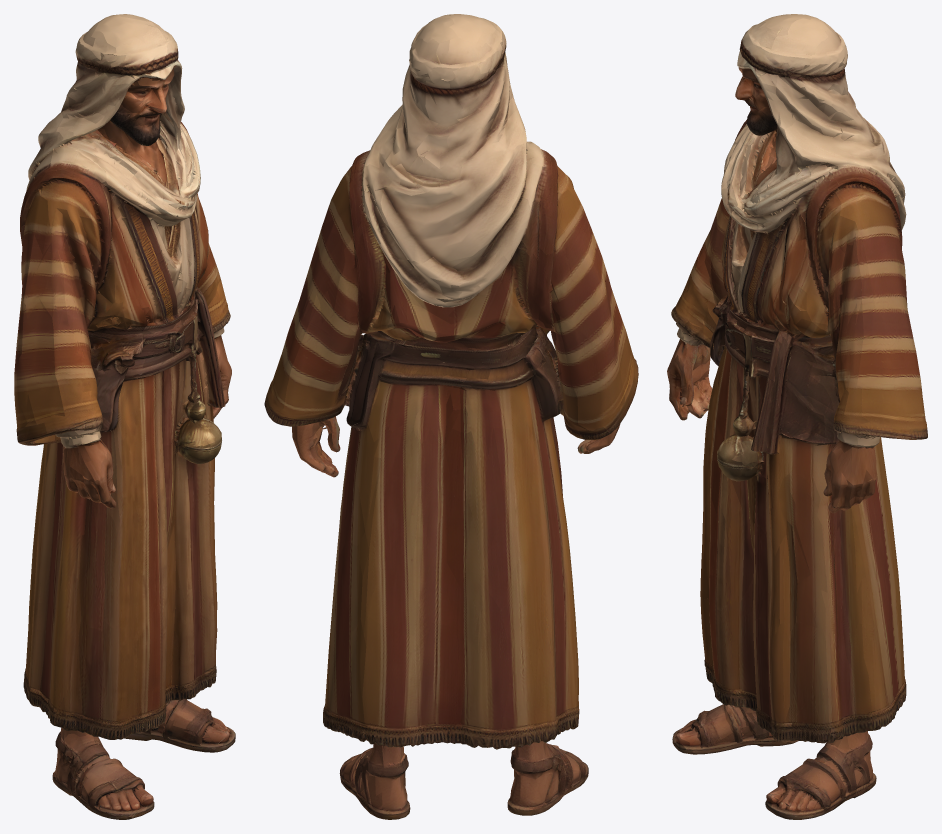
The model's file is traveler-stand.glb.
3 renders of one model, left to right at view 1: azimuth 30°, elevation 25°; view 2: azimuth 150°, elevation 25°; view 3: azimuth 270°, elevation 25°, orthographic. The views are drawn at different scales.
Visible parts, largest first — view 1: traveler; view 2: traveler; view 3: traveler.
Boxes of the visible parts, x1,y1,x2,y2 form: traveler: (14, 14, 235, 819); traveler: (264, 14, 638, 819); traveler: (667, 14, 927, 819).
Size of the model in its own units: 0.6312 by 1.7 by 0.5353.
Materials: 1 (1 with a texture image).
